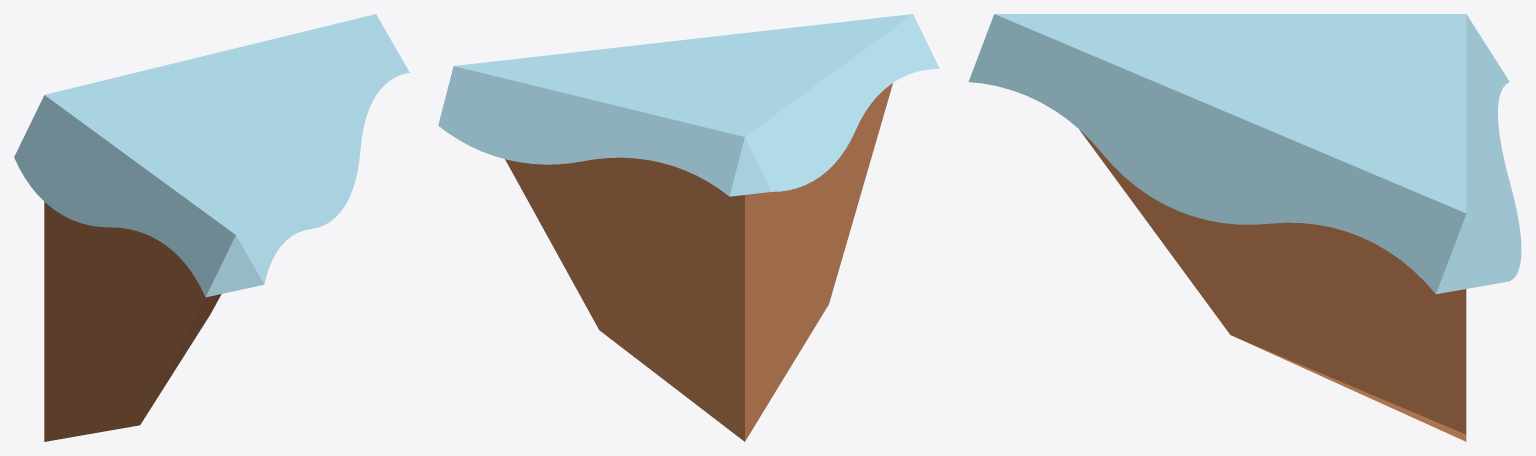
Rendered from blockSnowCliffCorner.dae.
3 renders of one model, left to right at view 1: azimuth 30°, elevation 25°; view 2: azimuth 150°, elevation 25°; view 3: azimuth 270°, elevation 25°, orthographic. The views are drawn at different scales.
Parts seen in each view (by area): view 1: blockSnowCliffCorner; view 2: blockSnowCliffCorner; view 3: blockSnowCliffCorner.
Part boxes in pixels (x1,y1,x2,y2): blockSnowCliffCorner: [14, 14, 409, 441]; blockSnowCliffCorner: [438, 14, 939, 441]; blockSnowCliffCorner: [968, 14, 1521, 441].
Bounding box in the file's own units: 1.18 × 1 × 1.17.
